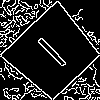I: (27, 27, 69, 70)
